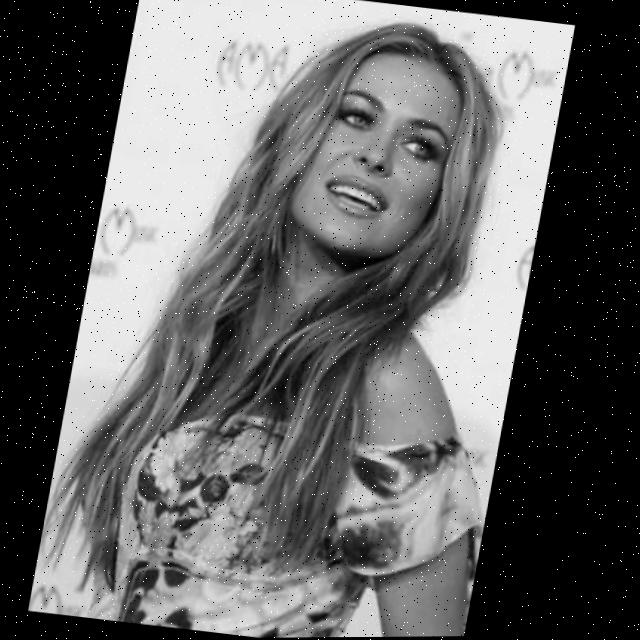face: (282, 39, 483, 279)
